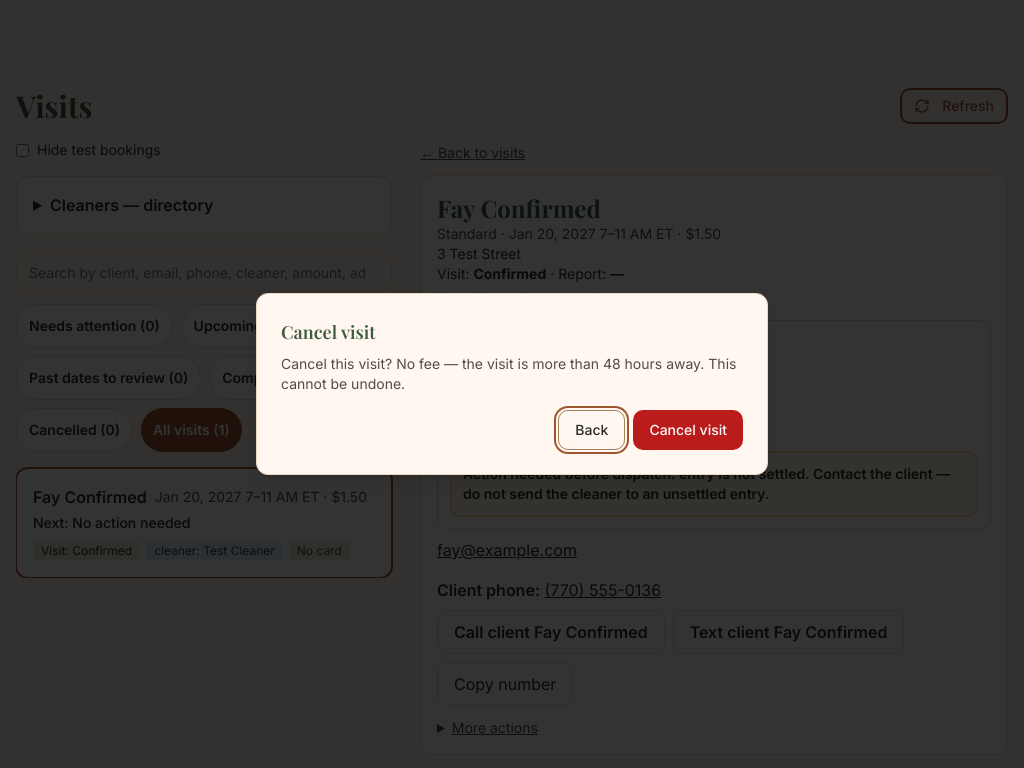
Test: owner cancel visit dialog › Back in the dialog runs nothing and never touches window.confirm
Earlier steps of the test are not shown.
Click the button "Back" at (592, 430), box [558, 410, 625, 450]
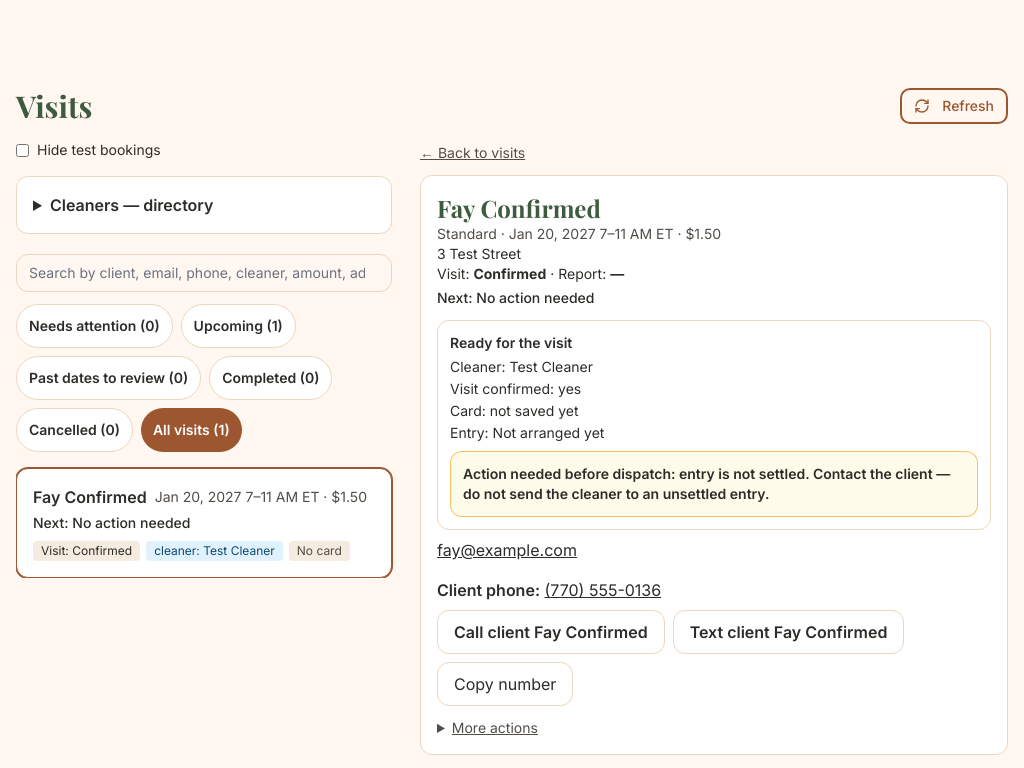
Expected: the dialog is gone
